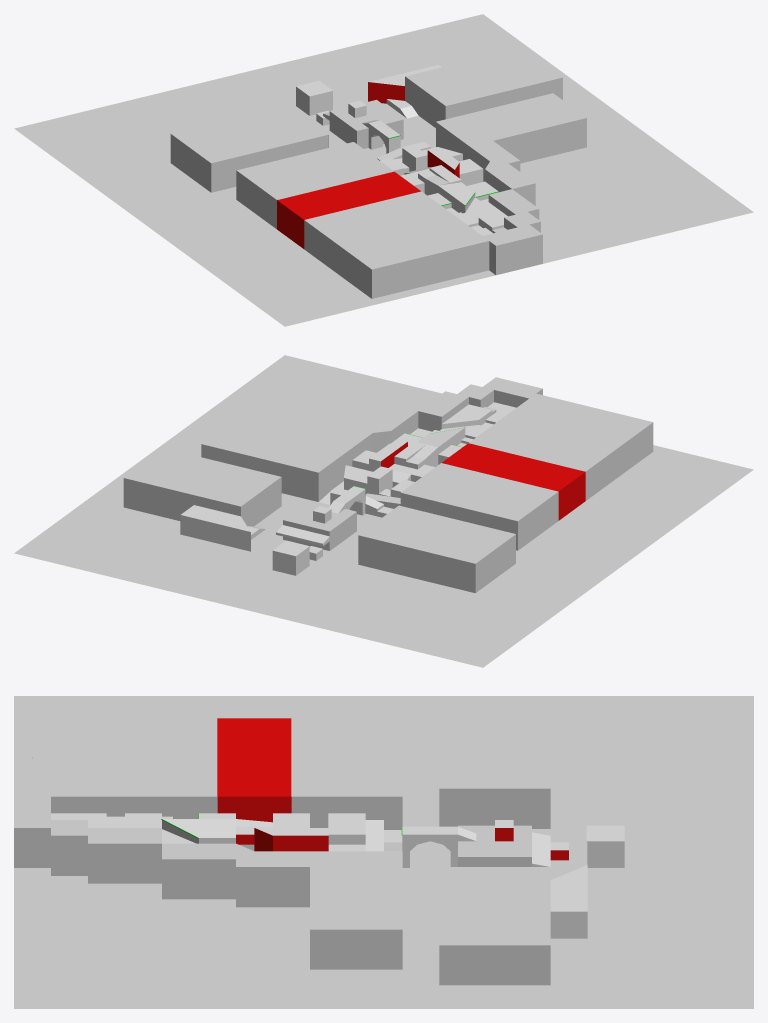
The model's file is RoofTopLevelDesignExport.fbx.
The picture shows the model from 3 angles, top to bottom: view 1: azimuth 30°, elevation 25°; view 2: azimuth 150°, elevation 25°; view 3: azimuth 270°, elevation 25°; orthographic projection. The views are drawn at different scales.
Parts seen in each view (by area): view 1: Plane, Cube.032, Cube.038, Cube.037, Cube.031, Cube.051, Cube.050, Cube.042, Cube.036, Cube.029, Cube.043, Cube.044 (+7 smaller); view 2: Plane, Cube.032, Cube.038, Cube.037, Cube.051, Cube.031, Cube.050, Cube.044, Cube.036, Cube.030, Cube.028, Cube.043 (+9 smaller); view 3: Plane, Cube.032, Cube.037, Cube.038, Cube.051, Cube.031, Cube.050, Cube.030, Cube.029, Cube.028, Cube.042, Cube.036 (+10 smaller).
Part boxes in pixels (<box>): Plane: <box>14,14,753,326</box>; Cube.032: <box>304,191,489,298</box>; Cube.038: <box>170,105,328,192</box>; Cube.037: <box>405,48,562,127</box>; Cube.031: <box>436,93,586,163</box>; Cube.051: <box>236,142,393,229</box>; Cube.050: <box>277,171,420,248</box>; Cube.042: <box>483,224,542,275</box>; Cube.036: <box>329,99,403,148</box>; Cube.029: <box>485,163,535,205</box>; Cube.043: <box>296,80,332,115</box>; Cube.044: <box>368,65,441,103</box>; Plane: <box>14,355,753,667</box>; Cube.032: <box>468,393,653,500</box>; Cube.038: <box>358,505,515,593</box>; Cube.037: <box>123,448,281,526</box>; Cube.051: <box>400,463,558,550</box>; Cube.031: <box>201,419,352,501</box>; Cube.050: <box>442,443,585,520</box>; Cube.044: <box>180,505,250,551</box>; Cube.036: <box>283,500,356,550</box>; Cube.030: <box>329,422,391,459</box>; Cube.028: <box>418,391,468,431</box>; Cube.043: <box>272,540,309,575</box>; Plane: <box>14,696,753,1008</box>; Cube.032: <box>32,718,217,818</box>; Cube.037: <box>439,867,550,985</box>; Cube.038: <box>439,710,550,828</box>; Cube.051: <box>291,718,402,829</box>; Cube.031: <box>310,851,402,969</box>; Cube.050: <box>217,718,291,822</box>; Cube.030: <box>236,843,309,907</box>; Cube.029: <box>162,843,235,899</box>; Cube.028: <box>88,828,161,883</box>; Cube.042: <box>14,796,50,867</box>; Cube.036: <box>458,825,531,866</box>.
Bounding box in the file's own units: 20000 × 1300 × 20000.
